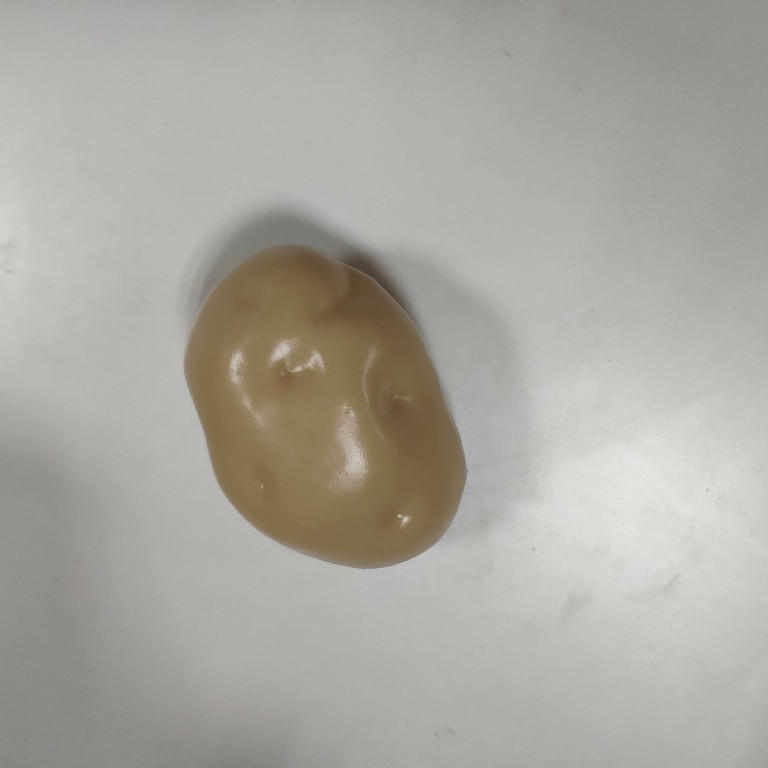fruit_potato: (175, 238, 476, 574)
